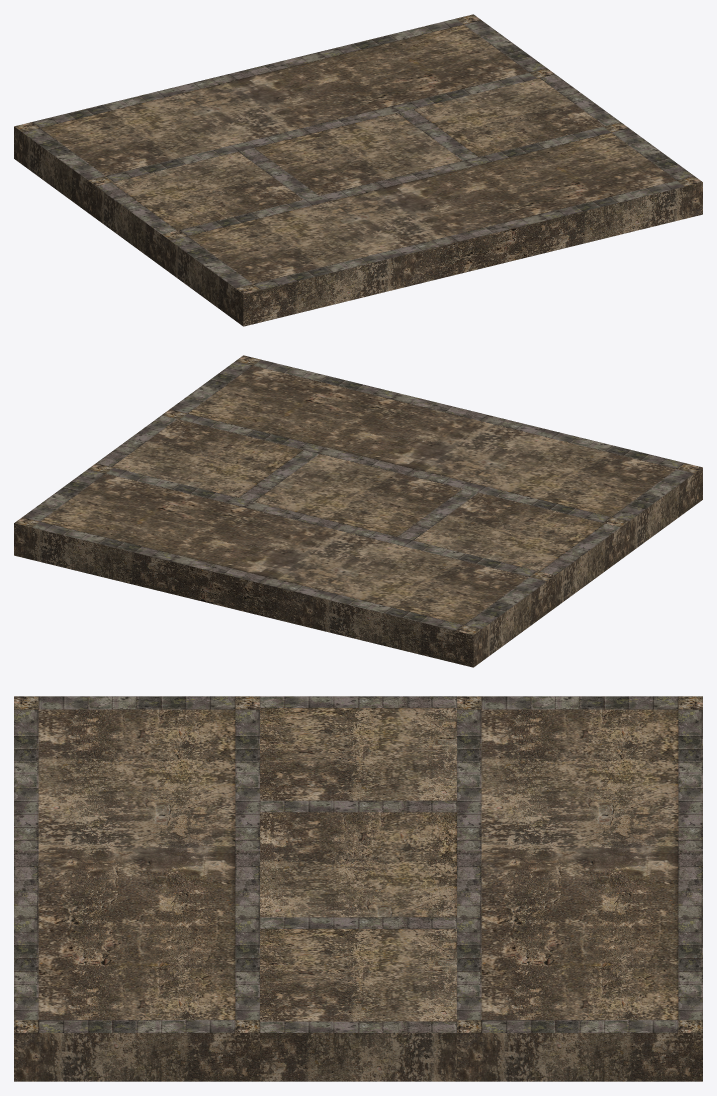
Rendered from materials_5_floor_rectangle_23.fbx.
3 renders of one model, top to bottom at view 1: azimuth 30°, elevation 25°; view 2: azimuth 150°, elevation 25°; view 3: azimuth 270°, elevation 25°, orthographic. The views are drawn at different scales.
Visible parts, largest first — view 1: materials_5_floor_rectangle_23; view 2: materials_5_floor_rectangle_23; view 3: materials_5_floor_rectangle_23.
Boxes of the visible parts, x1,y1,x2,y2 form: materials_5_floor_rectangle_23: [14, 14, 702, 326]; materials_5_floor_rectangle_23: [14, 355, 702, 667]; materials_5_floor_rectangle_23: [14, 696, 702, 1081].
Bounding box in the file's own units: 511 × 34.35 × 442.
